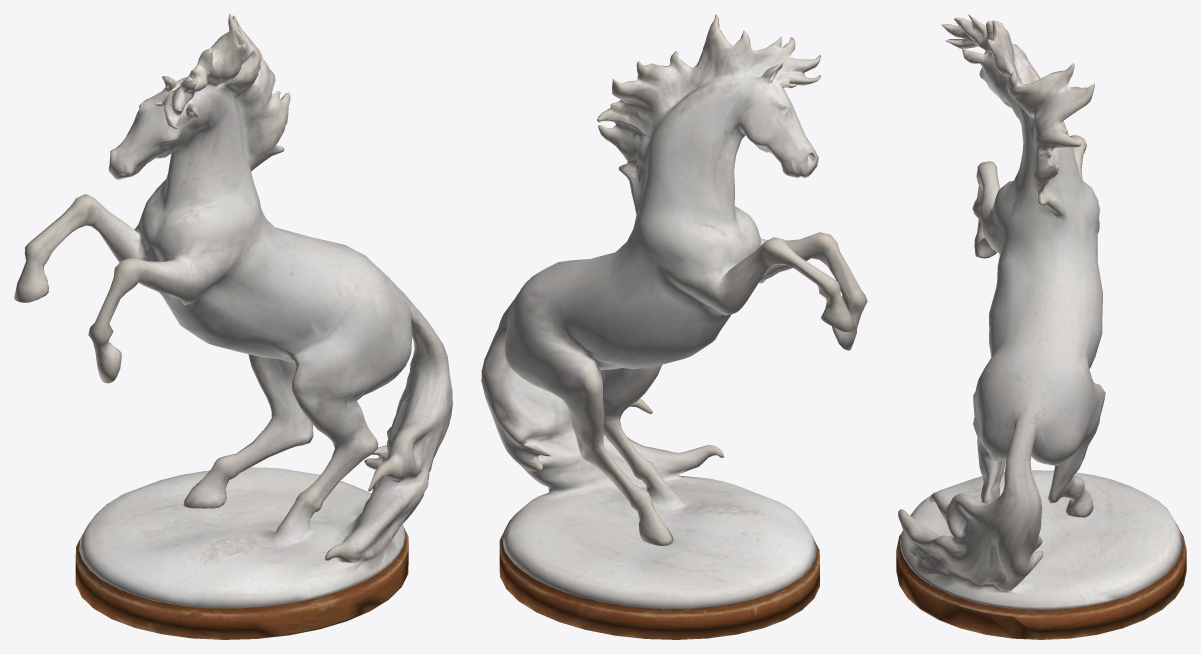
Rendered from horse_statue_01.glb.
3 views of the same model, side by side, from view 1: azimuth 30°, elevation 25°; view 2: azimuth 150°, elevation 25°; view 3: azimuth 270°, elevation 25° (orthographic). The views are drawn at different scales.
Parts seen in each view (by area): view 1: horse_statue_01; view 2: horse_statue_01; view 3: horse_statue_01.
Boxes of the visible parts, x1,y1,x2,y2 form: horse_statue_01: (14, 14, 452, 639); horse_statue_01: (481, 14, 867, 639); horse_statue_01: (896, 14, 1186, 639).
Size of the model in its own units: 0.1638 by 0.22 by 0.1078.
Materials: 1 (1 with a texture image).
